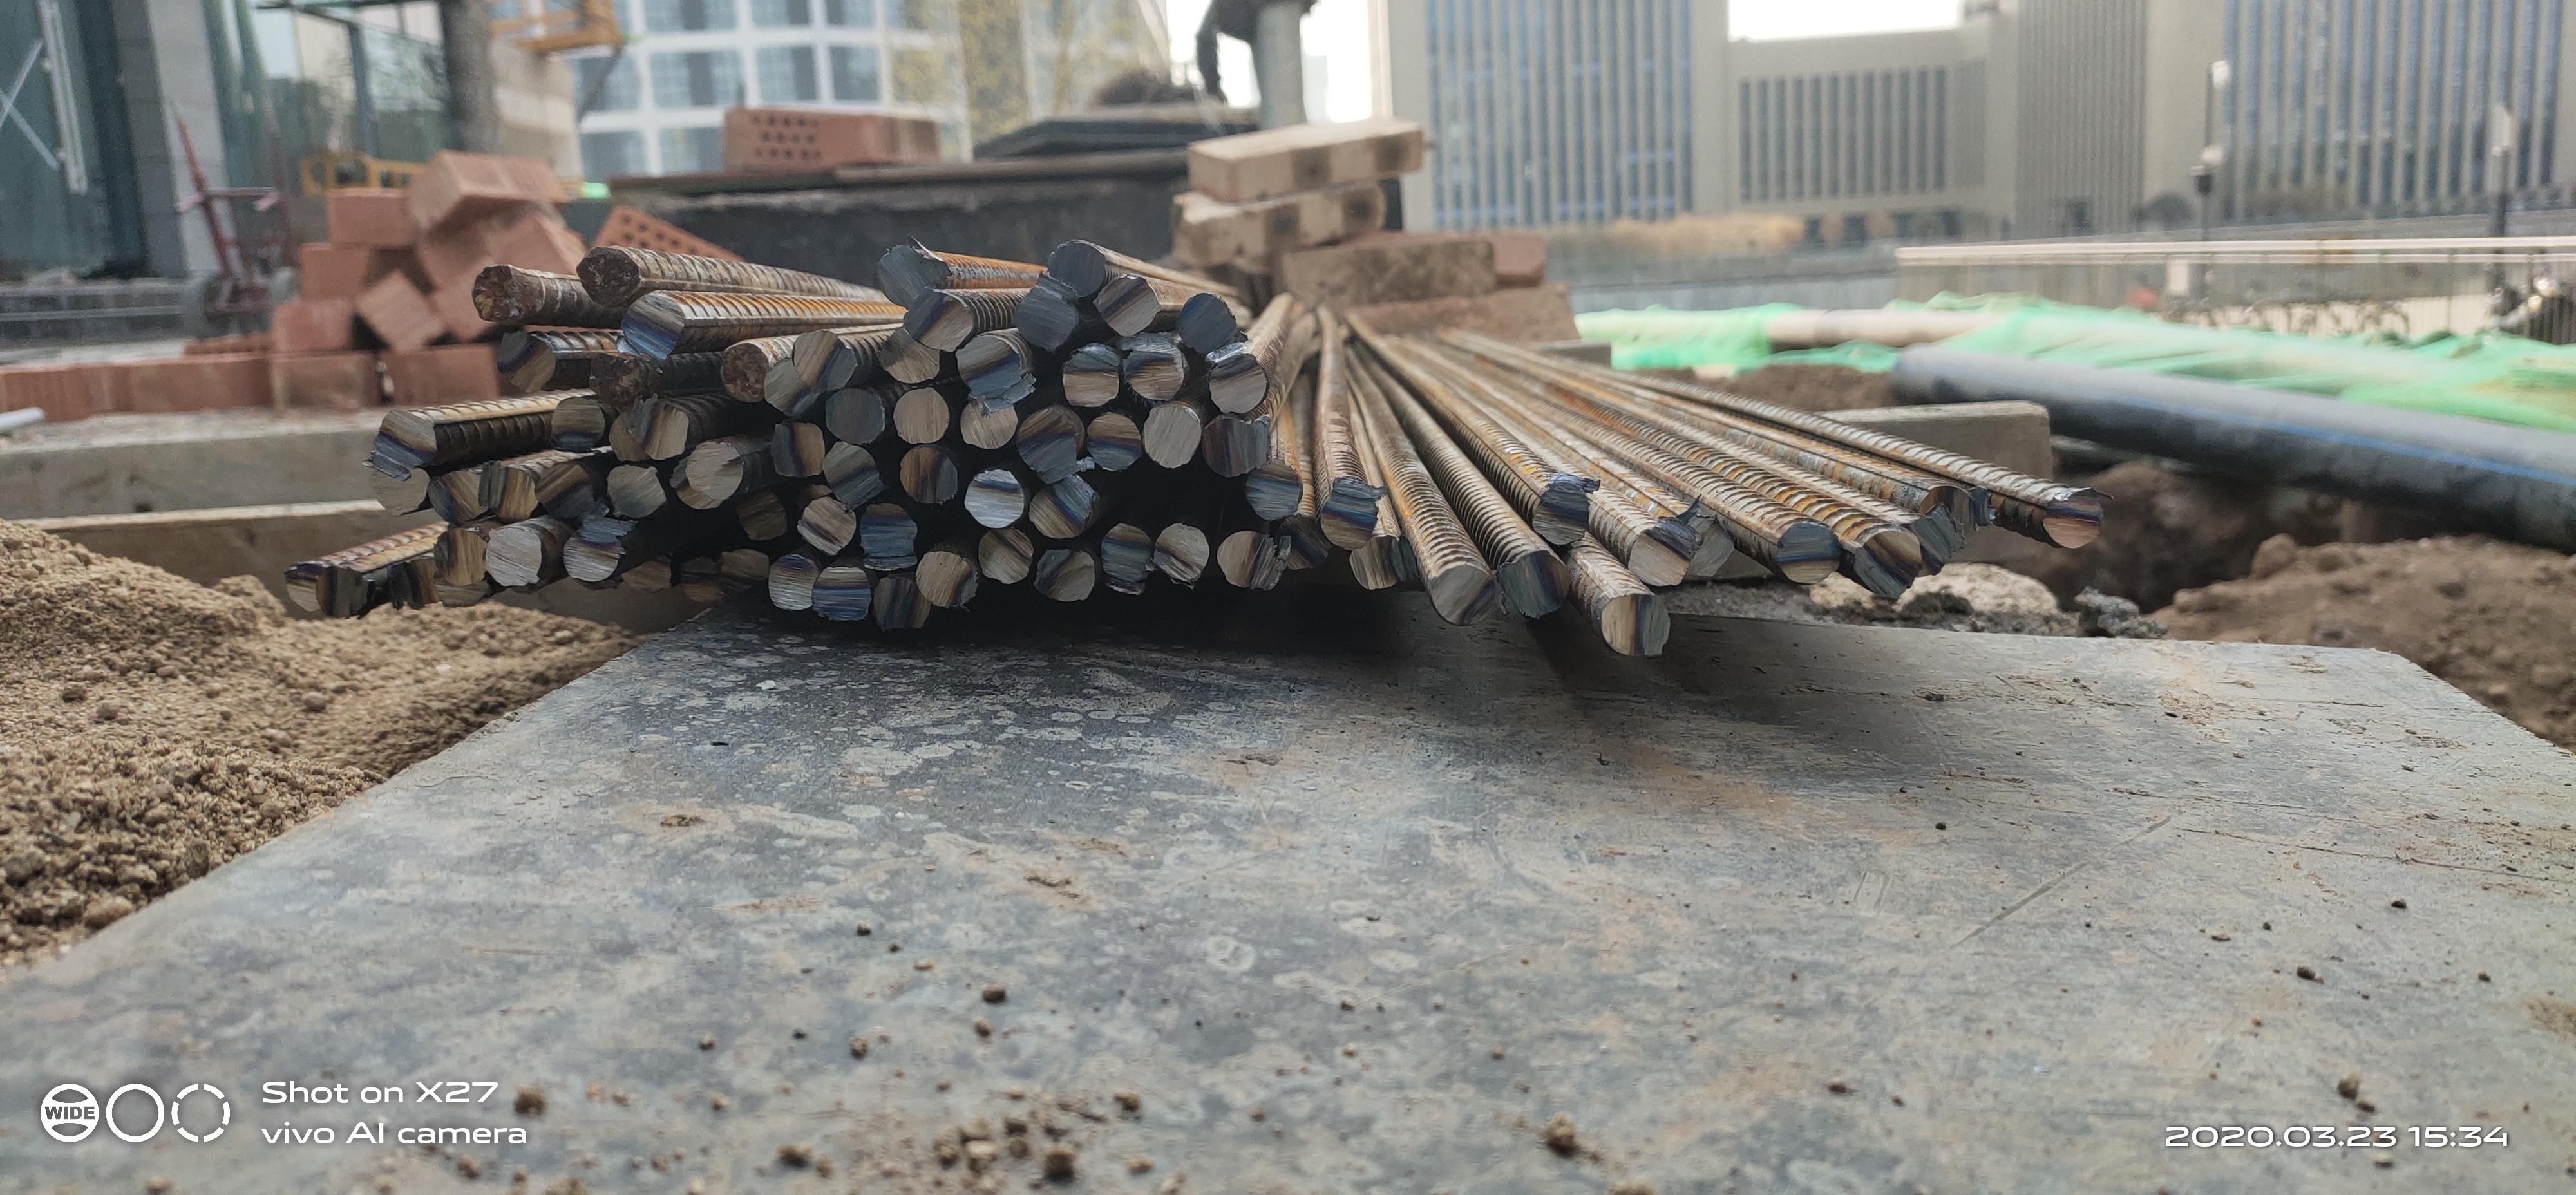rebar: (1844, 529, 1925, 603), (1914, 485, 1984, 560), (897, 285, 976, 353), (1320, 473, 1387, 551), (620, 289, 688, 362), (1598, 592, 1672, 659), (2037, 481, 2107, 554), (1426, 564, 1504, 630), (874, 239, 948, 306), (1215, 527, 1288, 594), (1017, 407, 1080, 484), (1529, 476, 1599, 545), (1624, 522, 1693, 590), (1012, 282, 1079, 352), (1201, 412, 1271, 478), (1506, 548, 1571, 621), (1774, 522, 1840, 590), (954, 334, 1023, 399), (1028, 476, 1097, 540), (1095, 274, 1163, 339), (858, 501, 920, 573), (1142, 400, 1203, 472), (962, 465, 1028, 531), (372, 408, 441, 469), (359, 456, 430, 517), (1245, 451, 1303, 523), (1100, 522, 1154, 600), (821, 441, 886, 506), (898, 442, 960, 508), (497, 330, 558, 395), (1175, 290, 1238, 355), (791, 330, 857, 390), (476, 460, 540, 522), (1208, 352, 1269, 415), (795, 495, 860, 557), (976, 525, 1036, 588), (484, 525, 543, 590), (574, 244, 641, 304), (878, 327, 943, 386), (915, 549, 980, 610), (1153, 520, 1213, 587), (1346, 532, 1410, 592), (633, 398, 690, 462), (1063, 346, 1121, 411), (1685, 513, 1740, 581), (823, 389, 887, 446), (1086, 409, 1143, 473), (685, 440, 746, 500), (762, 358, 821, 419), (768, 418, 828, 479), (1124, 343, 1185, 402), (536, 460, 595, 522), (869, 575, 932, 632), (957, 395, 1021, 453), (1046, 239, 1109, 297), (1033, 547, 1095, 604), (431, 527, 489, 586), (892, 386, 951, 446), (814, 564, 873, 621), (607, 462, 667, 520), (469, 264, 527, 324), (1277, 514, 1336, 570), (668, 450, 725, 511), (559, 531, 623, 583), (715, 343, 772, 402), (428, 468, 485, 525), (552, 396, 607, 453), (763, 552, 819, 612), (589, 352, 646, 407), (738, 489, 790, 547), (387, 556, 440, 611), (282, 557, 331, 616), (671, 556, 729, 605), (325, 564, 375, 620), (1904, 515, 1951, 575), (605, 413, 652, 467), (580, 499, 636, 543), (618, 551, 675, 595), (431, 572, 492, 609), (720, 546, 770, 590)
